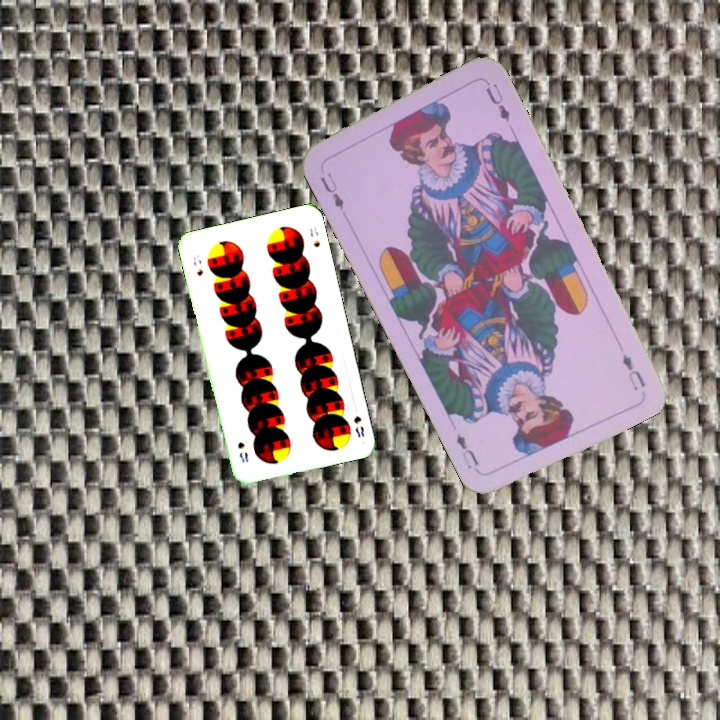EU: (316, 168, 347, 213), (618, 350, 649, 393)
S8: (350, 412, 367, 440), (189, 251, 206, 278)
